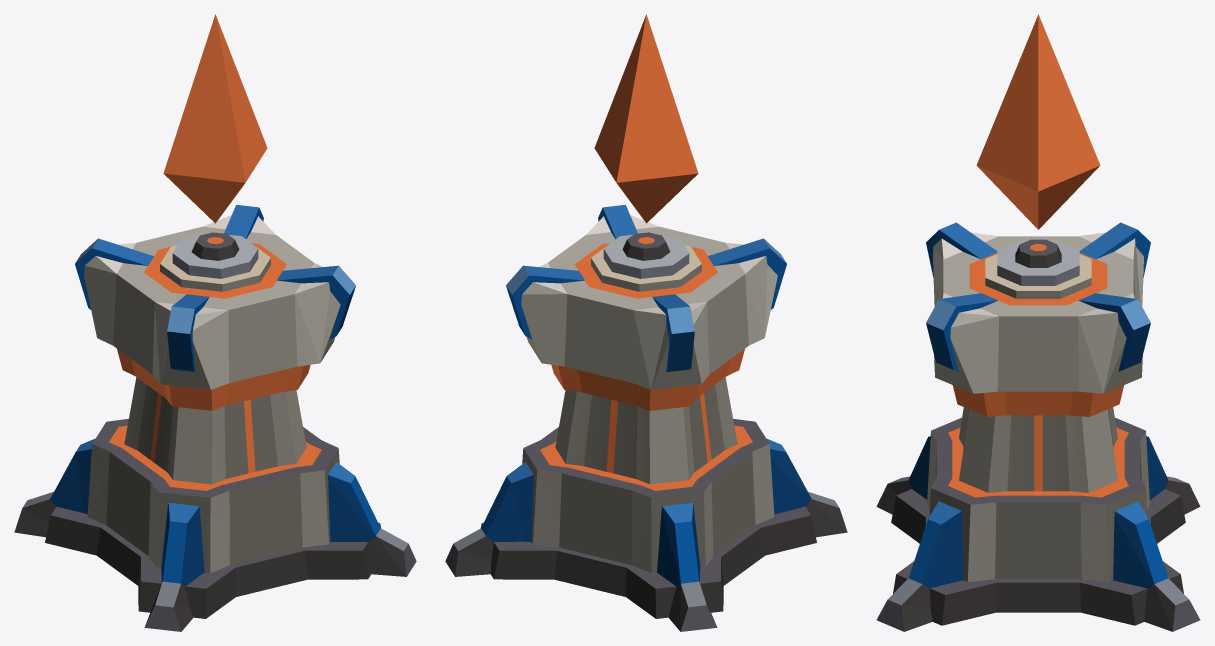
File: TB_MageTower_Lvl4_A.FBX
The picture shows the model from 3 angles, left to right: view 1: azimuth 30°, elevation 25°; view 2: azimuth 150°, elevation 25°; view 3: azimuth 270°, elevation 25°; orthographic projection. The views are drawn at different scales.
Parts seen in each view (by area): view 1: TB_MageTower_Lvl4_A, TB_MageTower_Lvl4_A_Crystal; view 2: TB_MageTower_Lvl4_A, TB_MageTower_Lvl4_A_Crystal; view 3: TB_MageTower_Lvl4_A, TB_MageTower_Lvl4_A_Crystal.
Part boxes in pixels (x1=…): TB_MageTower_Lvl4_A: x1=14, y1=205, x2=416, y2=631; TB_MageTower_Lvl4_A_Crystal: x1=163, y1=14, x2=267, y2=223; TB_MageTower_Lvl4_A: x1=445, y1=205, x2=847, y2=631; TB_MageTower_Lvl4_A_Crystal: x1=594, y1=14, x2=698, y2=223; TB_MageTower_Lvl4_A: x1=876, y1=222, x2=1200, y2=631; TB_MageTower_Lvl4_A_Crystal: x1=976, y1=14, x2=1100, y2=229.
Size of the model in its own units: 8.23 by 15.39 by 8.23.
